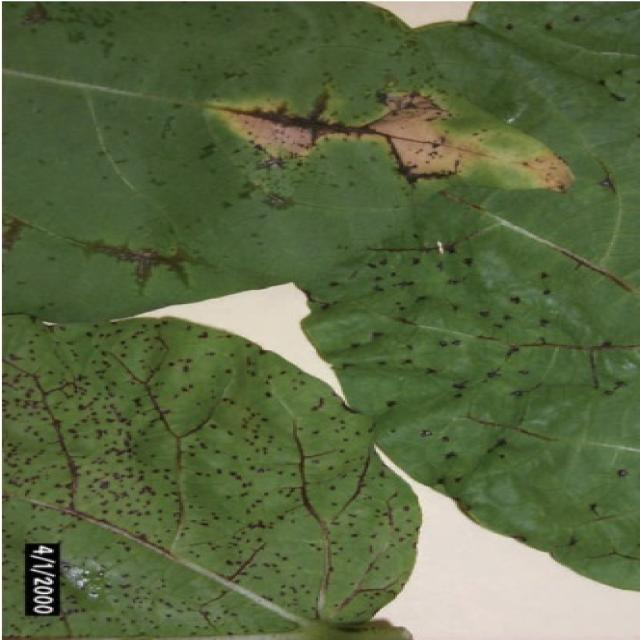Bacterial Blight: (5, 325, 381, 609), (161, 64, 589, 219)
